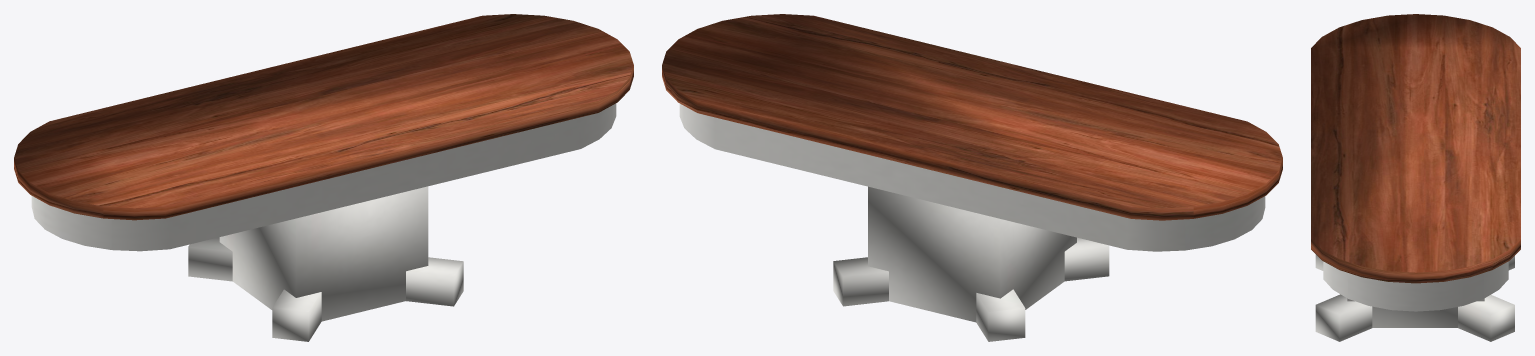
Rendered from ConferenceTable_Captain.obj.
3 renders of one model, left to right at view 1: azimuth 30°, elevation 25°; view 2: azimuth 150°, elevation 25°; view 3: azimuth 270°, elevation 25°, orthographic. The views are drawn at different scales.
Parts seen in each view (by area): view 1: ConferenceTable_Captain.obj; view 2: ConferenceTable_Captain.obj; view 3: ConferenceTable_Captain.obj.
Part boxes in pixels (left/top/right/bottom): ConferenceTable_Captain.obj: left=14, top=14, right=633, bottom=341; ConferenceTable_Captain.obj: left=662, top=14, right=1282, bottom=341; ConferenceTable_Captain.obj: left=1311, top=14, right=1520, bottom=341.
Bounding box in the file's own units: 17.79 × 5 × 6.1.
